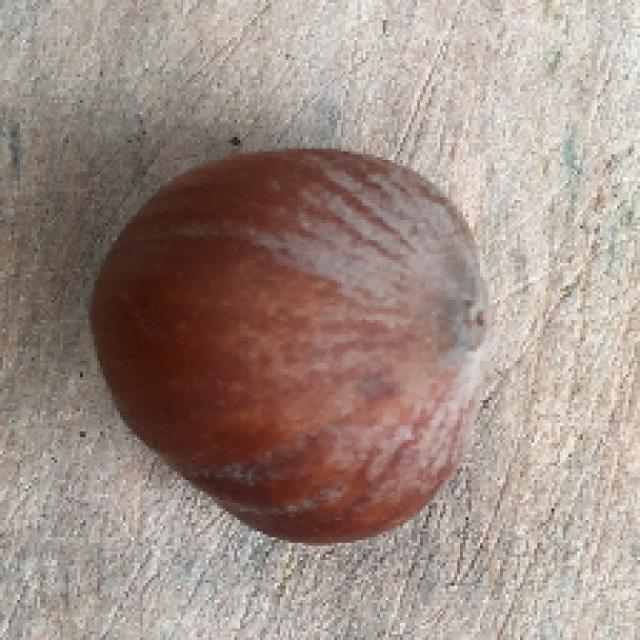qualityHazelnut: (86, 132, 510, 554)
